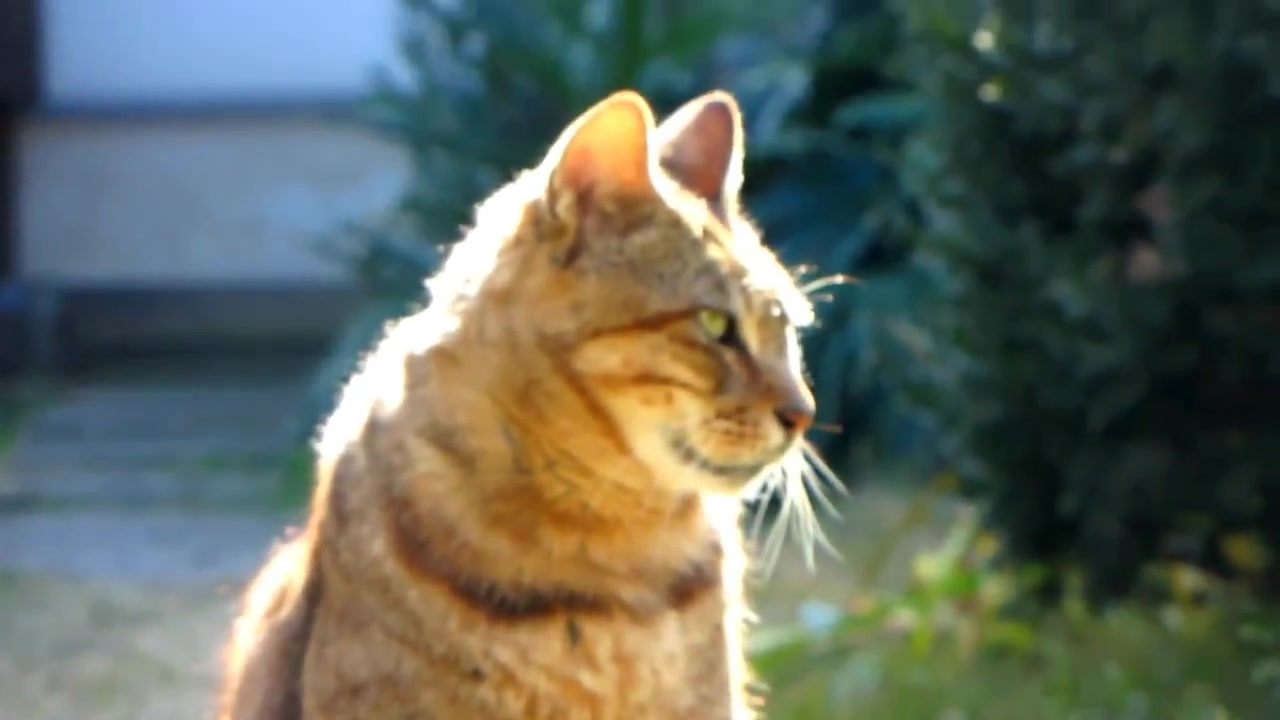cat: (226, 83, 826, 718)
